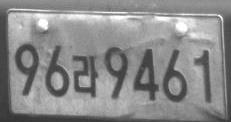1: (192, 49, 218, 103)
4: (133, 47, 159, 101)
6: (161, 48, 188, 103), (43, 44, 70, 97)
9: (13, 42, 40, 96), (103, 46, 128, 99)
라: (72, 54, 99, 99)
